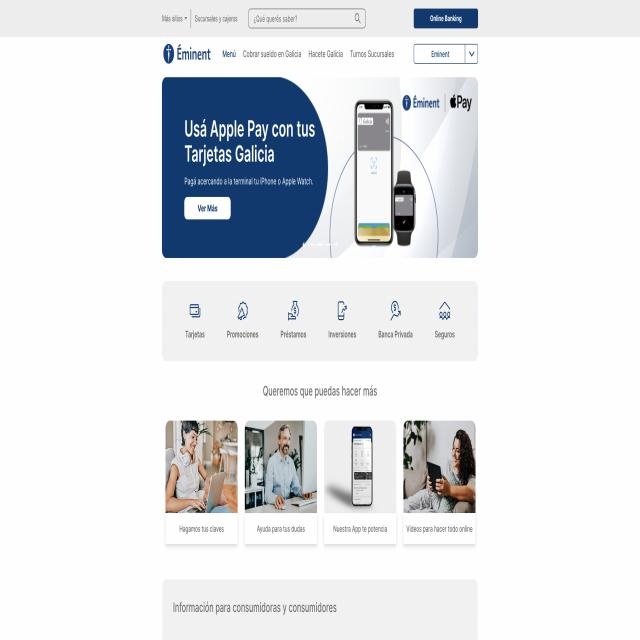Logo: (160, 35, 213, 72)
Navigation: (220, 41, 404, 69)
